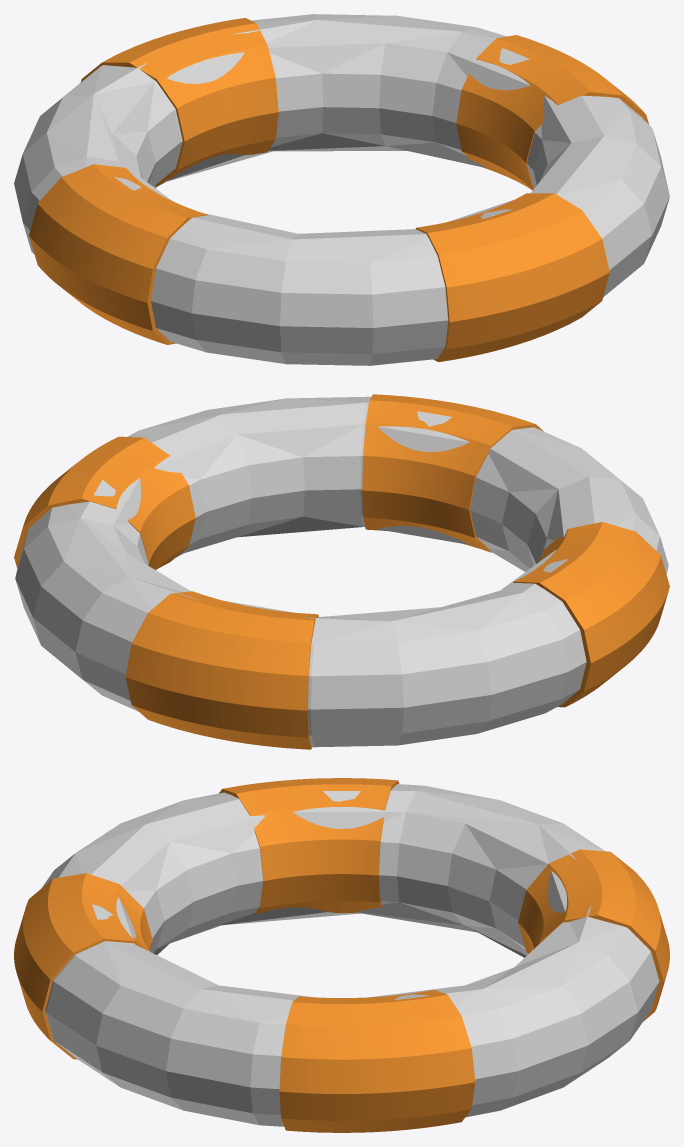
File: swimRing.glb
The picture shows the model from 3 angles, top to bottom: view 1: azimuth 30°, elevation 25°; view 2: azimuth 150°, elevation 25°; view 3: azimuth 270°, elevation 25°; orthographic projection.
Visible parts, largest first — view 1: swimRing:Torus, swimRing:Torus.1_2, swimRing:Torus.1_3, swimRing:Torus.1_0, swimRing:Torus.1_1; view 2: swimRing:Torus, swimRing:Torus.1_0, swimRing:Torus.1_2, swimRing:Torus.1_3, swimRing:Torus.1_1; view 3: swimRing:Torus, swimRing:Torus.1_1, swimRing:Torus.1_3, swimRing:Torus.1_2, swimRing:Torus.1_0.
Part boxes in pixels (<box>): swimRing:Torus: <box>14,14,669,365</box>; swimRing:Torus.1_2: <box>416,193,609,361</box>; swimRing:Torus.1_3: <box>29,164,207,344</box>; swimRing:Torus.1_0: <box>80,18,278,186</box>; swimRing:Torus.1_1: <box>456,35,648,190</box>; swimRing:Torus: <box>15,396,668,747</box>; swimRing:Torus.1_0: <box>125,591,318,749</box>; swimRing:Torus.1_2: <box>362,394,543,552</box>; swimRing:Torus.1_3: <box>513,522,669,707</box>; swimRing:Torus.1_1: <box>14,436,195,569</box>; swimRing:Torus: <box>41,784,659,1126</box>; swimRing:Torus.1_1: <box>279,990,475,1132</box>; swimRing:Torus.1_3: <box>219,778,399,914</box>; swimRing:Torus.1_2: <box>14,873,152,1059</box>; swimRing:Torus.1_0: <box>518,849,669,1021</box>.
Bounding box in the file's own units: 253 × 52.11 × 253.
